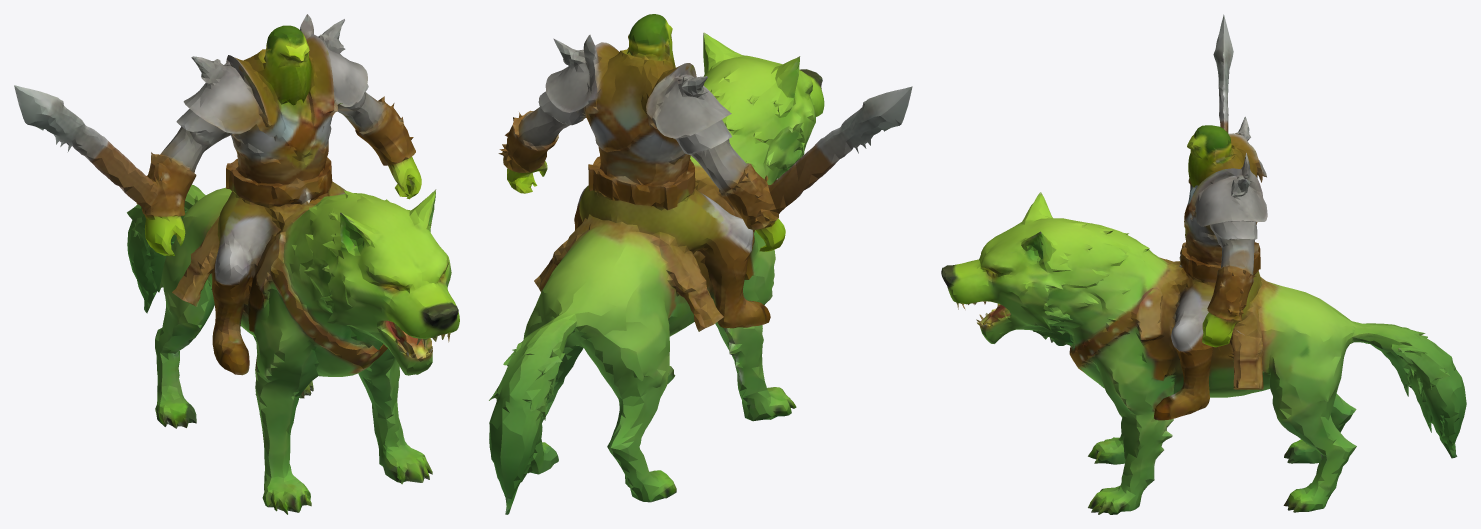
The model's file is orc_cavalry.glb.
3 renders of one model, left to right at view 1: azimuth 30°, elevation 25°; view 2: azimuth 150°, elevation 25°; view 3: azimuth 270°, elevation 25°, orthographic. The views are drawn at different scales.
Parts seen in each view (by area): view 1: orc_cavalry; view 2: orc_cavalry; view 3: orc_cavalry.
Part boxes in pixels (x1,y1,x2,y2): orc_cavalry: [14, 14, 459, 514]; orc_cavalry: [489, 14, 912, 514]; orc_cavalry: [941, 14, 1466, 514].
Size of the model in its own units: 1.43 by 1.42 by 1.89.
1 material, 1 textured.
